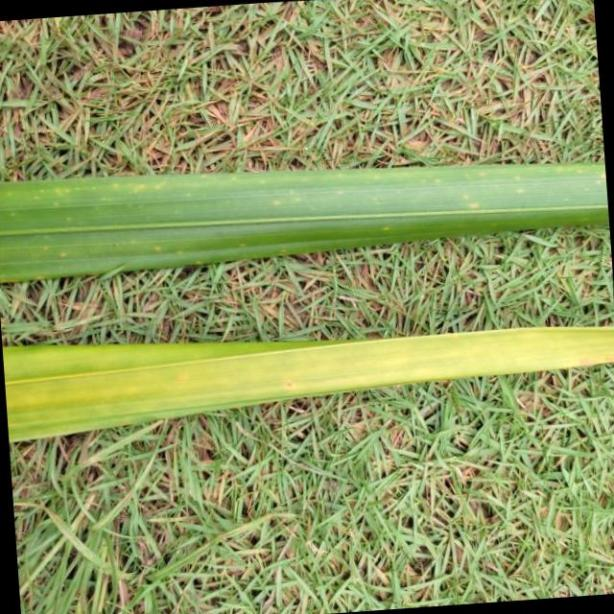nitrogen: (0, 147, 614, 277), (1, 320, 614, 443)
